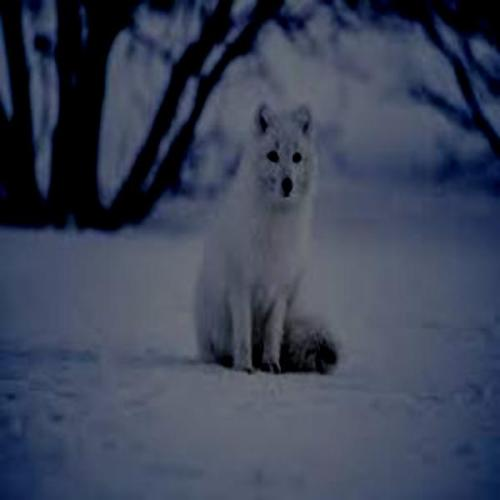arctic_fox-endangered: (190, 102, 338, 378)
